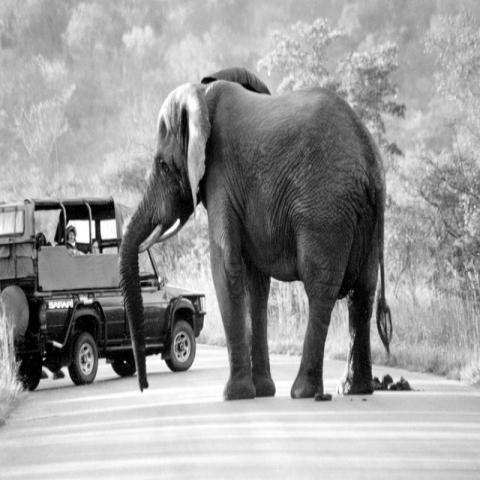car: (0, 197, 209, 392)
truck: (0, 198, 206, 384)
